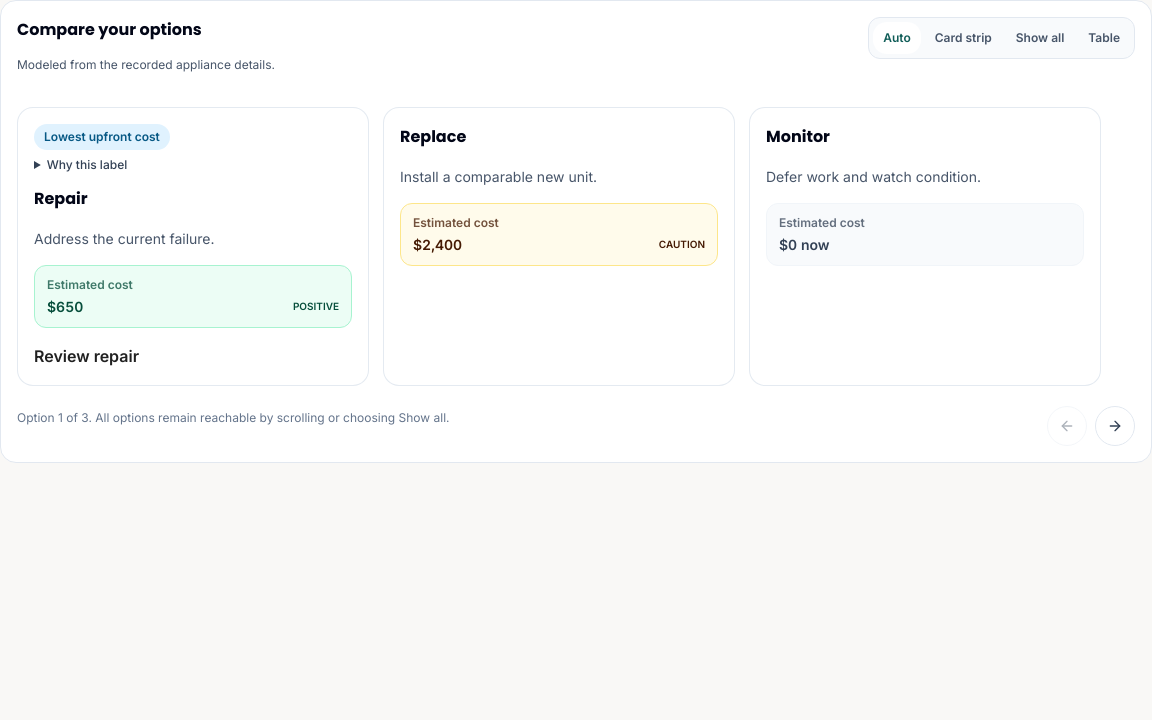
Test: renders bounded options, declared badge provenance and option-scoped actions
The image size is (1152, 720).
Expected: the number of list items is 3, [17,107,369,386]; [383,107,735,386]; [749,107,1101,386]
Click the heading "Why this label" at (87, 164), box [47,157,127,172]
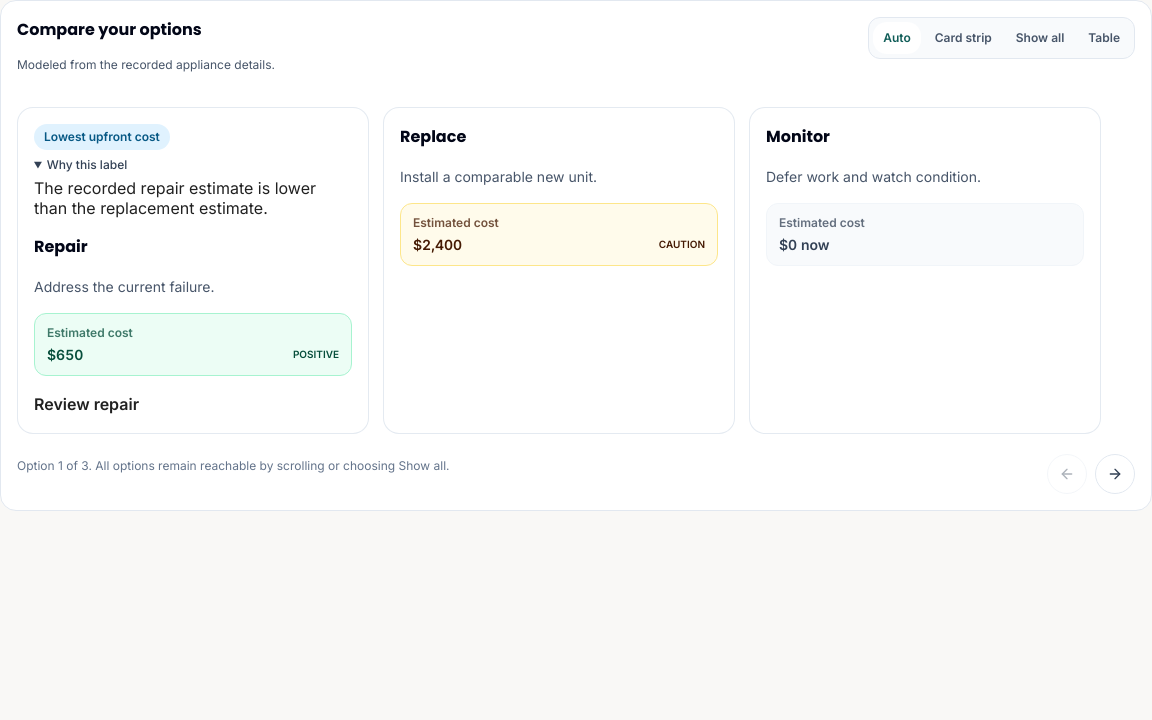
Expected: the button "Review repair" is shown, [34,392,139,417]
Result: the text "The recorded repair estimate is lower than the replacement estimate." is shown at [34,178,352,218]
